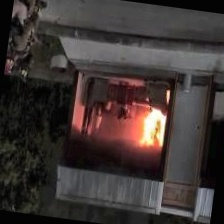fire: (132, 107, 173, 160)
